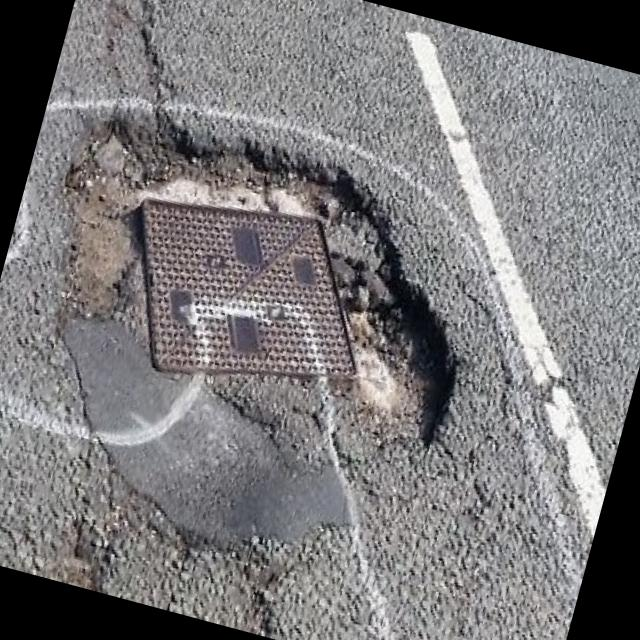Potholes: (0, 82, 523, 529)
